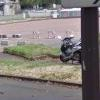Motorcycle: (53, 29, 92, 72)
